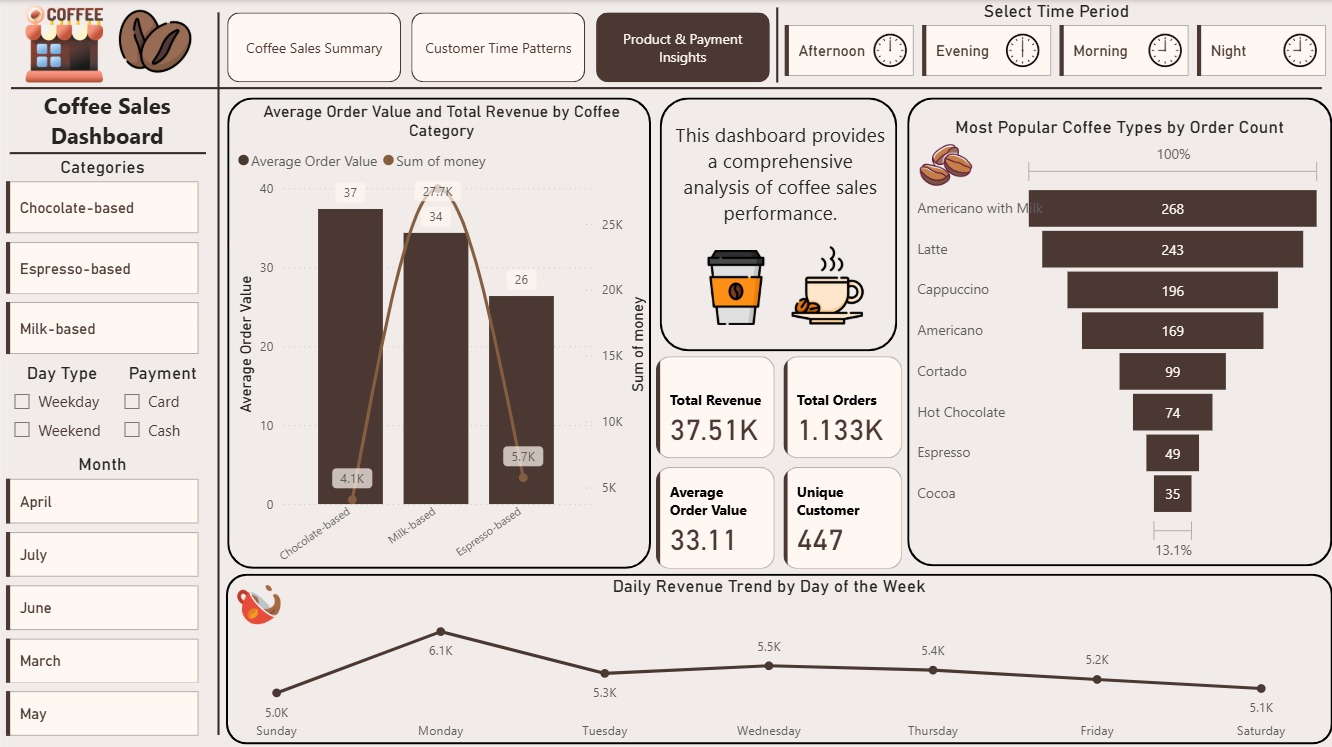

This screenshot's page, from the dashboard's own definition file:
{"tool":"powerbi","page":{"name":"Product & Payment Insights","canvas":[1280,720],"ordinal":2},"visuals":[{"type":"advancedSlicerVisual","title":"Categories","fields":{"Values":["Cleaned_Dataset.coffee_category"]},"box":[0,149.7,195.3,198.1],"z":0},{"type":"advancedSlicerVisual","title":"Month","fields":{"Values":["Cleaned_Dataset.Month Name"]},"box":[0,436.2,195.3,279.4],"z":1000},{"type":"advancedSlicerVisual","title":"Select Time Period","fields":{"Values":["Cleaned_Dataset.time_of_day"]},"box":[748.3,0,531.7,79],"z":2000},{"type":"shape","box":[195.7,12,26.4,694],"z":3000},{"type":"shape","box":[9.6,70.8,1259.6,27.6],"z":4000},{"type":"cardVisual","fields":{"Data":["Sum(Cleaned_Dataset.money)","CountNonNull(Cleaned_Dataset.coffee_name)","Cleaned_Dataset.Average Order Value","Count(Cleaned_Dataset.card)"]},"box":[624.3,337.8,246.6,215.2],"z":5000},{"type":"image","box":[106.9,0,82.9,79.2],"z":6000},{"type":"shape","box":[8.4,133.3,188.5,27.6],"z":7000},{"type":"textbox","box":[7.2,81.7,189.7,76.8],"z":8000},{"type":"slicer","title":"Day Type","fields":{"Values":["Cleaned_Dataset.is_weekend"]},"box":[0,348.2,117.7,87.7],"z":9000},{"type":"slicer","title":"Payment","fields":{"Values":["Cleaned_Dataset.payment_category"]},"box":[105.7,348.2,99.7,87.7],"z":10000},{"type":"pageNavigator","box":[217.3,12,521.1,67.2],"z":11000},{"type":"shape","box":[216.7,551.6,1063.3,163.9],"z":12000},{"type":"shape","box":[217.3,93.7,407.1,452.7],"z":13000},{"type":"shape","box":[870.5,93.7,408.3,450.3],"z":14000},{"type":"lineChart","title":"Daily Revenue Trend by Day of the Week","fields":{"Category":["Cleaned_Dataset.Day_Of_Week_Name"],"Y":["Sum(Cleaned_Dataset.money)"]},"box":[196.9,552.3,1081.9,168.1],"z":15000},{"type":"lineStackedColumnComboChart","title":"Average Order Value and Total Revenue by Coffee Category","fields":{"Category":["Cleaned_Dataset.coffee_category"],"Y":["Cleaned_Dataset.Average Order Value"],"Y2":["Sum(Cleaned_Dataset.money)"]},"box":[222.1,98.5,402.3,452.7],"z":16000},{"type":"funnel","title":"Most Popular Coffee Types by Order Count","fields":{"Category":["Cleaned_Dataset.coffee_name"],"Y":["CountNonNull(Cleaned_Dataset.coffee_name)"]},"box":[875.3,111.7,398.6,432.3],"z":17000},{"type":"shape","box":[632.8,93.7,228.1,243.8],"z":18000},{"type":"textbox","box":[641.2,111.7,214.9,120.1],"z":19000},{"type":"image","box":[665.2,235.3,81.7,81.7],"z":20000},{"type":"image","box":[749.3,231.7,90.1,85.3],"z":21000},{"type":"shape","box":[732.5,7.2,26.4,72],"z":22000},{"type":"image","box":[221.8,553.4,51.7,53.9],"z":24000},{"type":"image","box":[18,0,85.3,84.1],"z":25000},{"type":"image","box":[875.5,128.8,65.5,60.2],"z":26001},{"type":"image","box":[960.6,22.8,42,50.4],"z":26002},{"type":"image","box":[1097.5,22.8,42,50.4],"z":26003},{"type":"image","box":[1227.2,22.8,42,50.4],"z":26004},{"type":"image","box":[833.3,22.8,42,50.4],"z":26005}]}

Visuals, with their boxes in screenshot pixels (x1, y1, x2, y2), scaled from the page's 1280x720 canvas onto the 1332x747 screenshot:
"Categories" advancedSlicerVisual: region(0, 155, 203, 361)
"Month" advancedSlicerVisual: region(0, 453, 203, 742)
"Select Time Period" advancedSlicerVisual: region(779, 0, 1331, 82)
shape: region(204, 12, 231, 732)
shape: region(10, 73, 1321, 102)
cardVisual - Sum(Cleaned_Dataset.money) x CountNonNull(Cleaned_Dataset.coffee_name): region(650, 350, 906, 574)
image: region(111, 0, 198, 82)
shape: region(9, 138, 205, 167)
textbox: region(7, 85, 205, 164)
"Day Type" slicer: region(0, 361, 122, 452)
"Payment" slicer: region(110, 361, 214, 452)
pageNavigator: region(226, 12, 768, 82)
shape: region(226, 572, 1331, 742)
shape: region(226, 97, 650, 567)
shape: region(906, 97, 1331, 564)
"Daily Revenue Trend by Day of the Week" lineChart: region(205, 573, 1331, 746)
"Average Order Value and Total Revenue by Coffee Category" lineStackedColumnComboChart: region(231, 102, 650, 572)
"Most Popular Coffee Types by Order Count" funnel: region(911, 116, 1326, 564)
shape: region(659, 97, 896, 350)
textbox: region(667, 116, 891, 240)
image: region(692, 244, 777, 329)
image: region(780, 240, 874, 329)
shape: region(762, 7, 790, 82)
image: region(231, 574, 285, 630)
image: region(19, 0, 107, 87)
image: region(911, 134, 979, 196)
image: region(1000, 24, 1043, 76)
image: region(1142, 24, 1186, 76)
image: region(1277, 24, 1321, 76)
image: region(867, 24, 911, 76)
